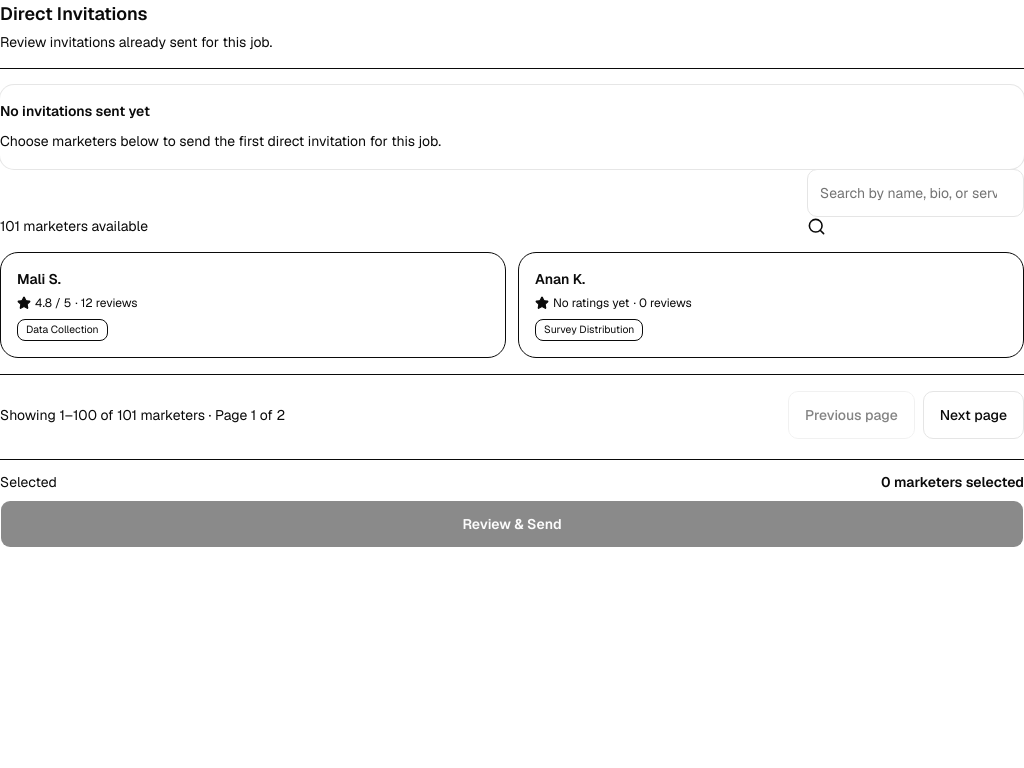
Test case: JobInviteSelector › keeps selected marketers while paging through the full list
Click the checkbox named "Select Mali S.".
click(39, 279)  # box [0,252,506,358]
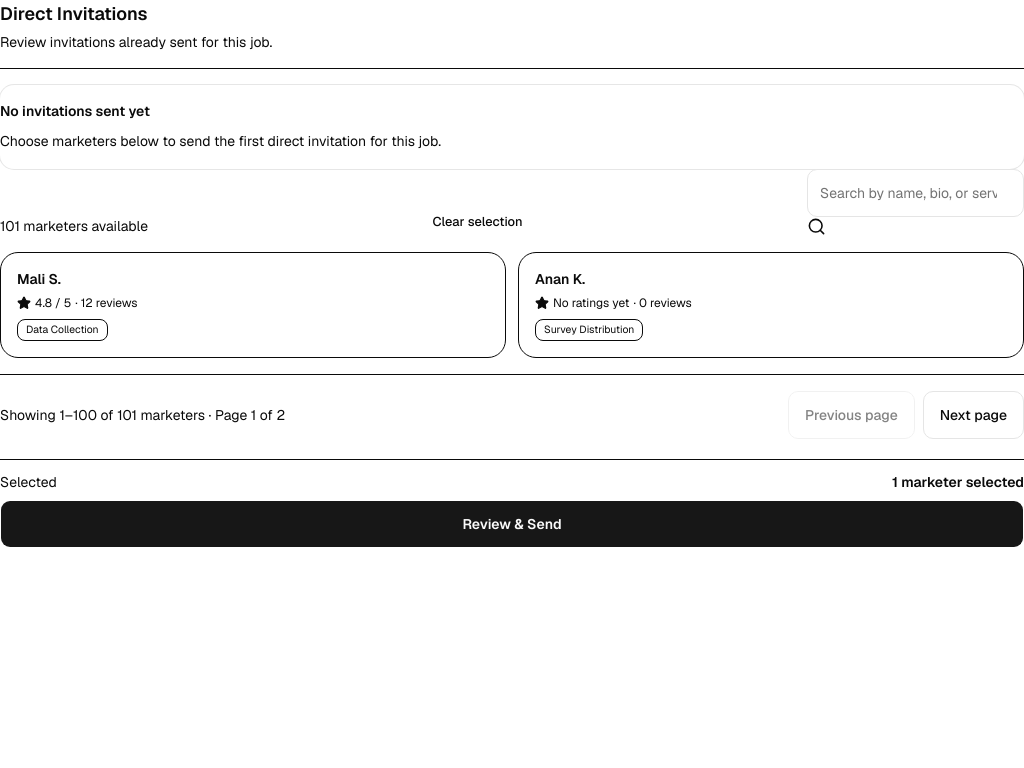
Click the button "Next page".
click(973, 415)  # box [923,391,1023,439]
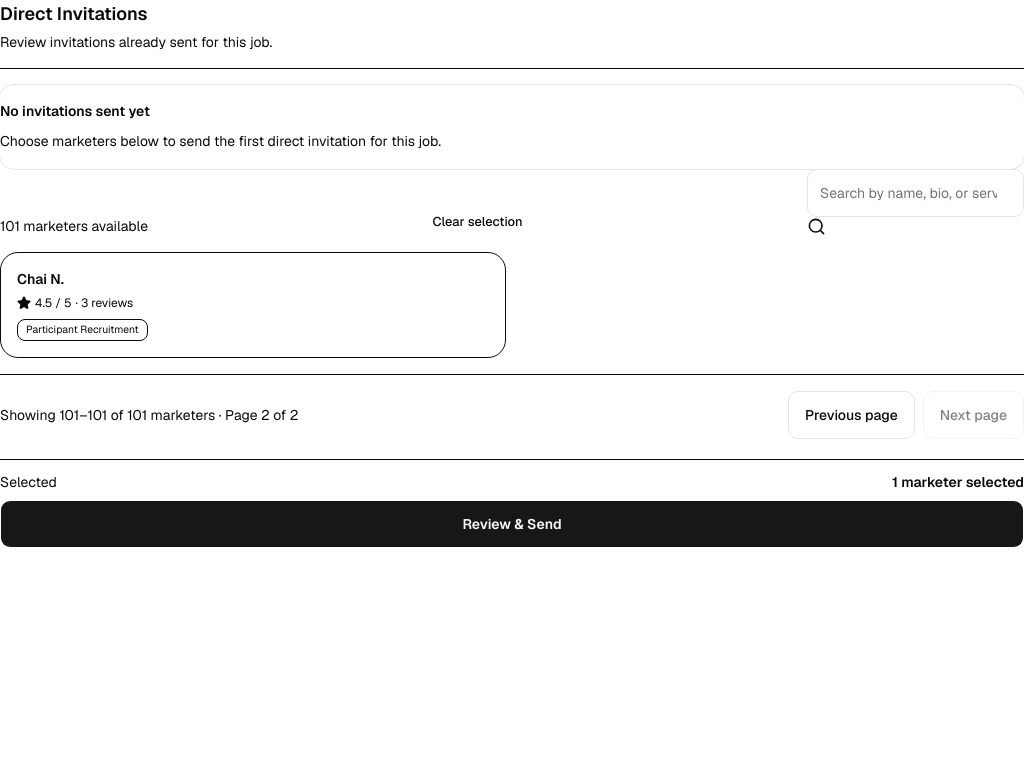
Check: the checkbox named "Select Chai N." is shown
Check: the text "Showing 101–101 of 101 marketers · Page 2 of 2" is shown, box [0,405,298,425]
Click the checkbox named "Select Chai N.".
click(40, 279)  # box [0,252,506,358]
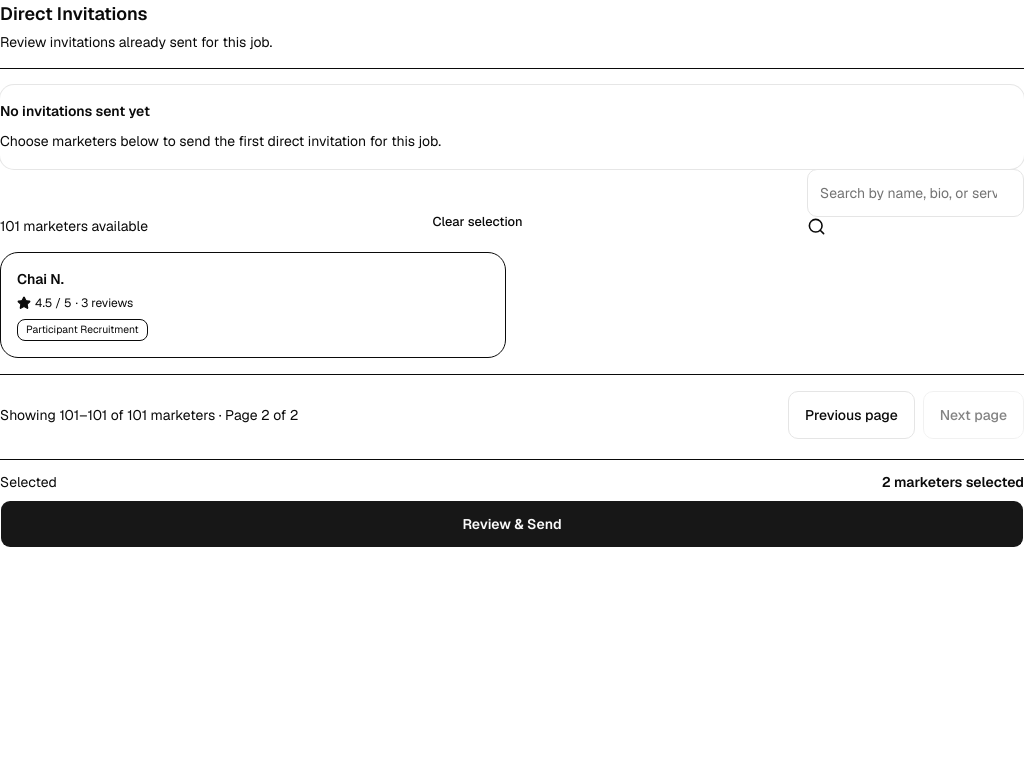
Click the button "Review & Send".
click(512, 524)  # box [0,500,1023,548]
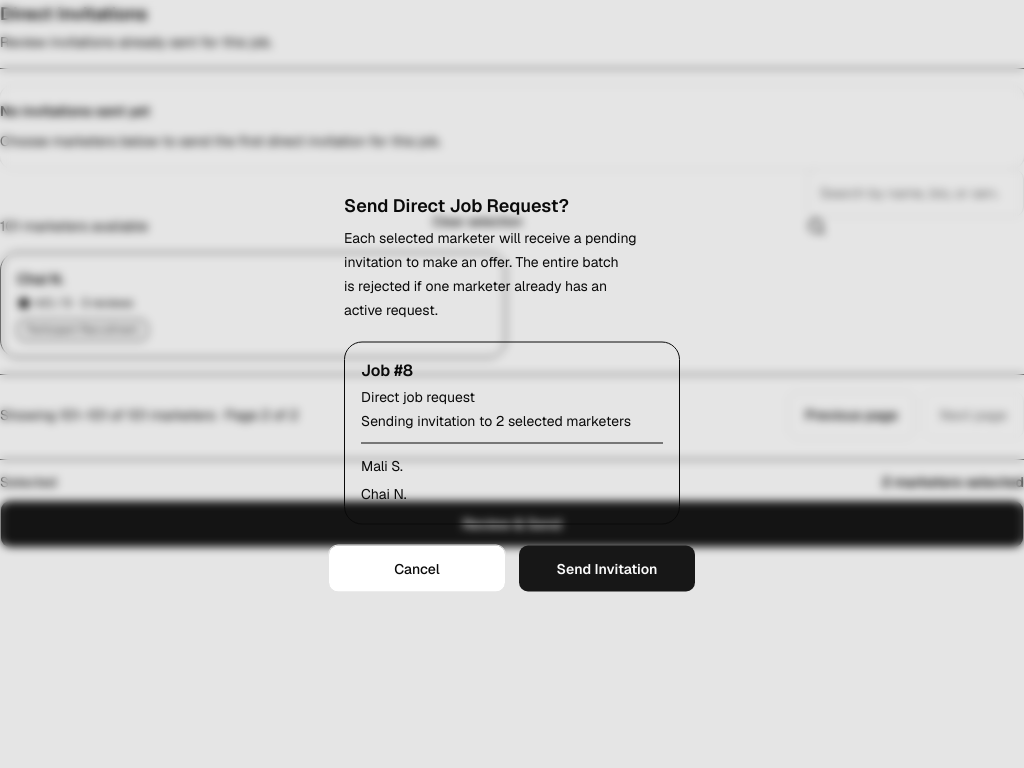
Check: the list item "Mali S." is shown, box [361,456,403,474]
Check: the list item "Chai N." is shown, box [361,484,407,502]
Click the button "Send Invitation".
click(607, 568)  # box [518,544,696,592]
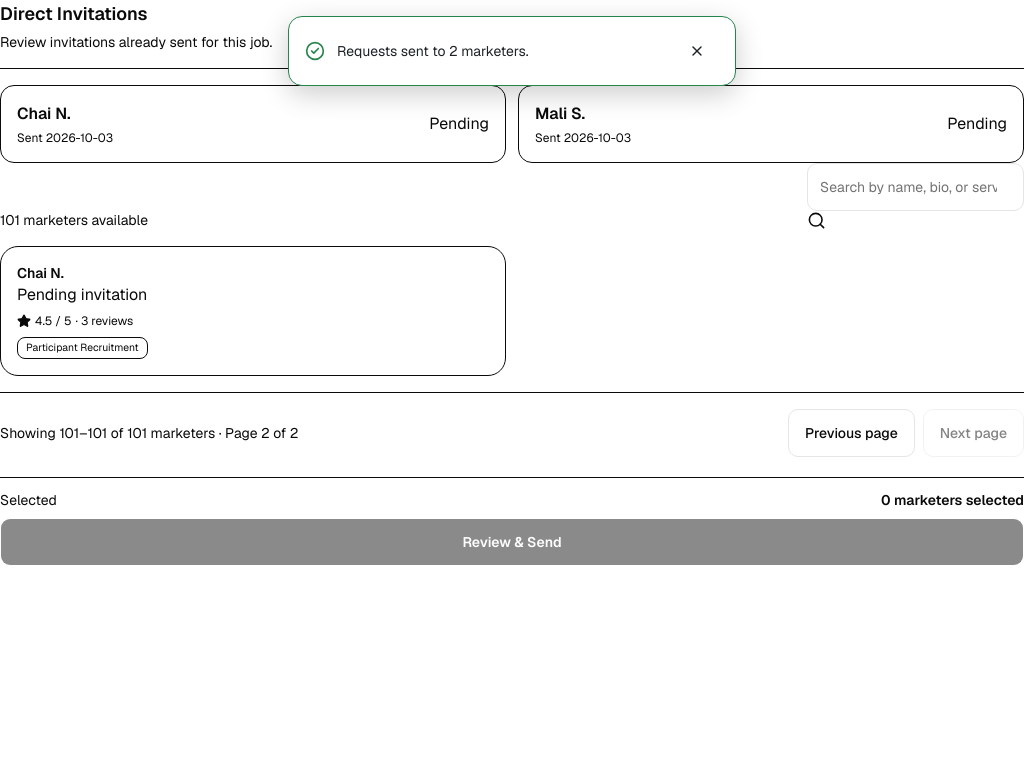
Check: the text "Mali S." is shown, box [535,103,585,124]
Check: the text "Chai N." in the row of "Mali S." is shown, box [17,103,71,124]
Check: the text "Requests sent to 2 marketers." is shown, box [337,42,529,60]
